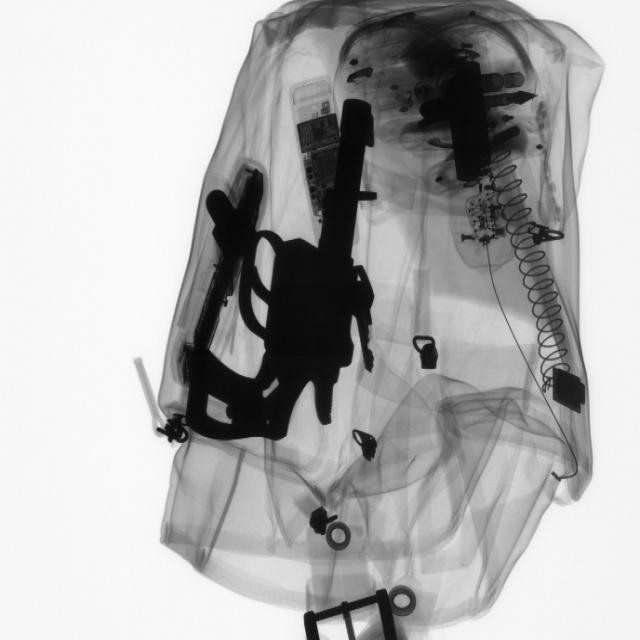GUN: (194, 119, 376, 448)
